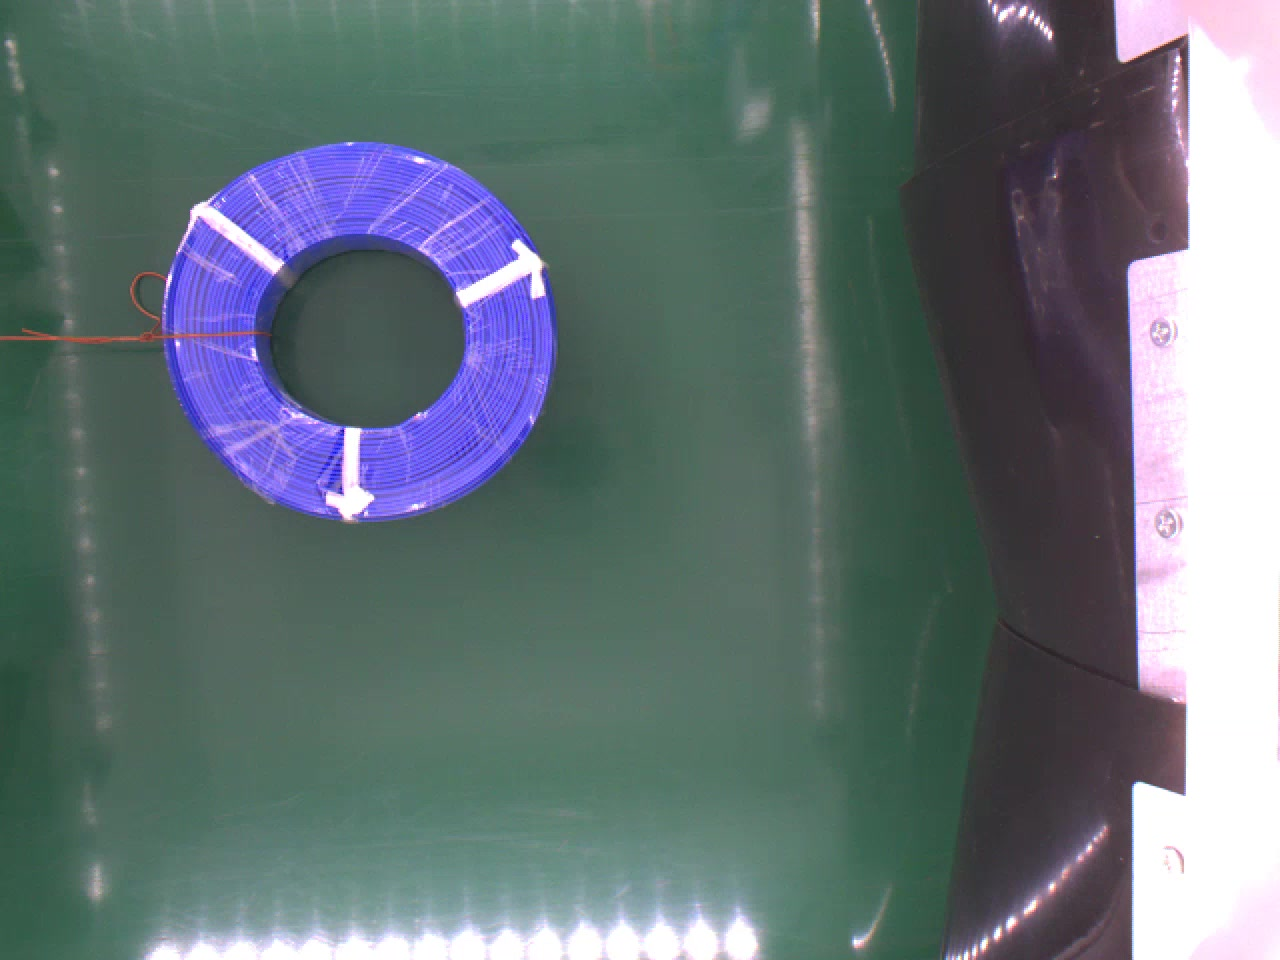blue: (166, 140, 558, 518)
